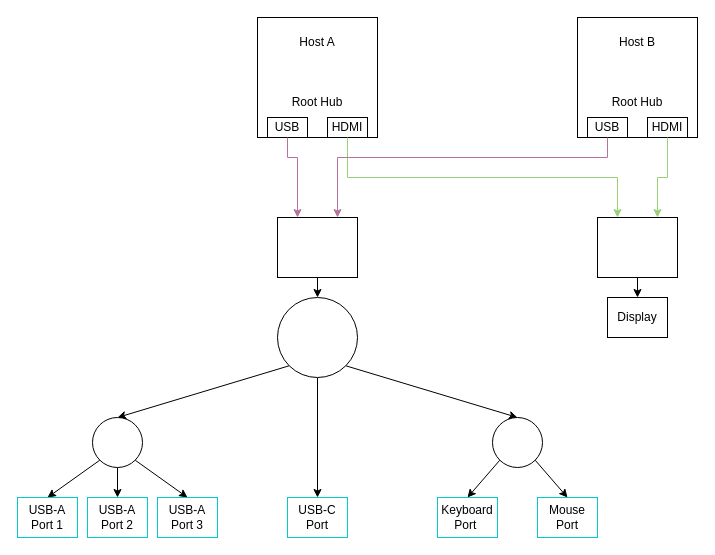
This 715x555 diagram has some shape labels left out. Here are the shapes that lost their labels. From the top down, the centre of each, then its label:
At pixel 317 247: "USB Switch".
At pixel 637 247: "HDMI Switch".
At pixel 317 337: "Hub".
At pixel 117 442: "User Ports".
At pixel 517 442: "HID Ports".
